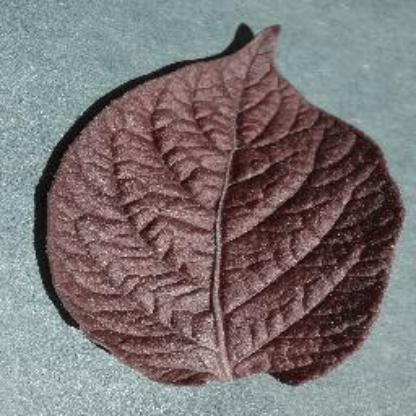Healthy-plant: (31, 23, 408, 396)
